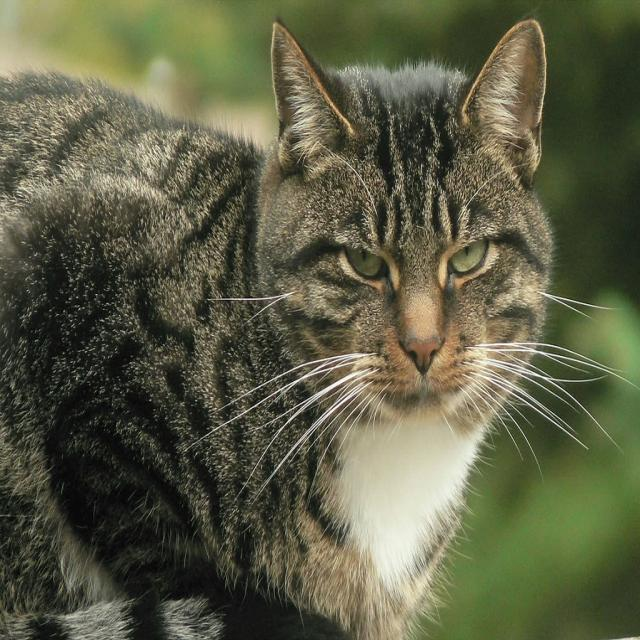cat: (2, 16, 638, 640)
